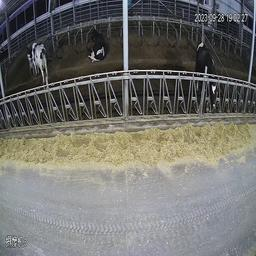cow: (195, 39, 219, 107), (24, 43, 49, 85), (88, 29, 110, 64)
